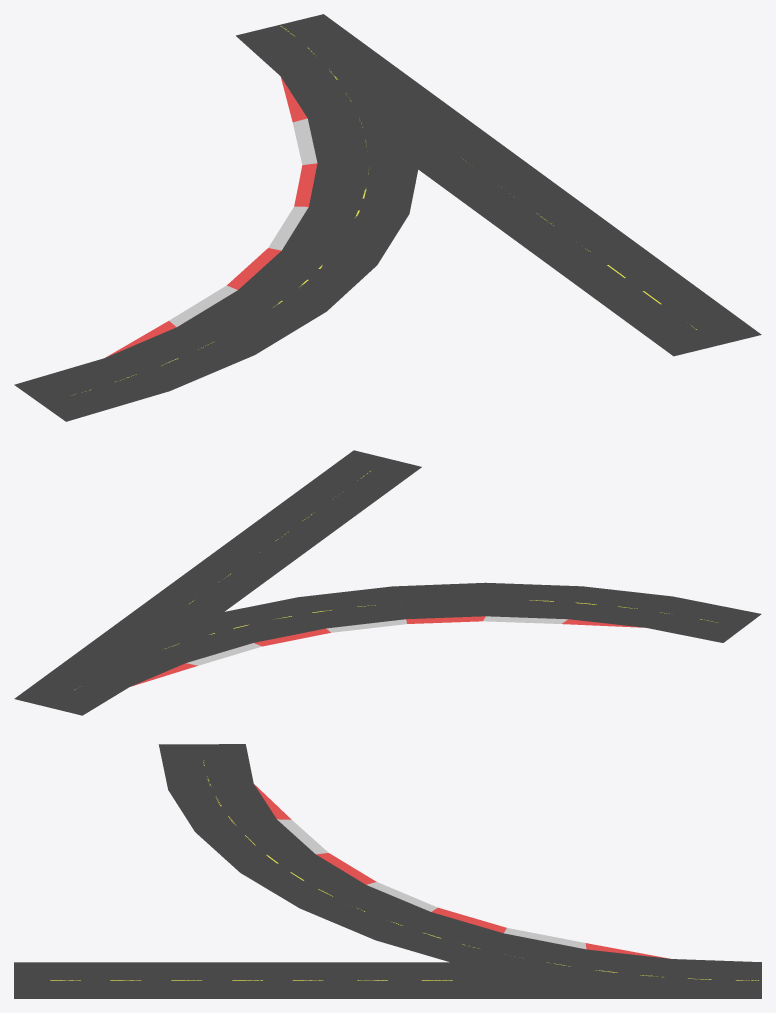
File: sofl.obj
3 views of the same model, one above another, from view 1: azimuth 30°, elevation 25°; view 2: azimuth 150°, elevation 25°; view 3: azimuth 270°, elevation 25° (orthographic). The views are drawn at different scales.
Bounding box in the file's own units: 1663 × 0 × 2062.
